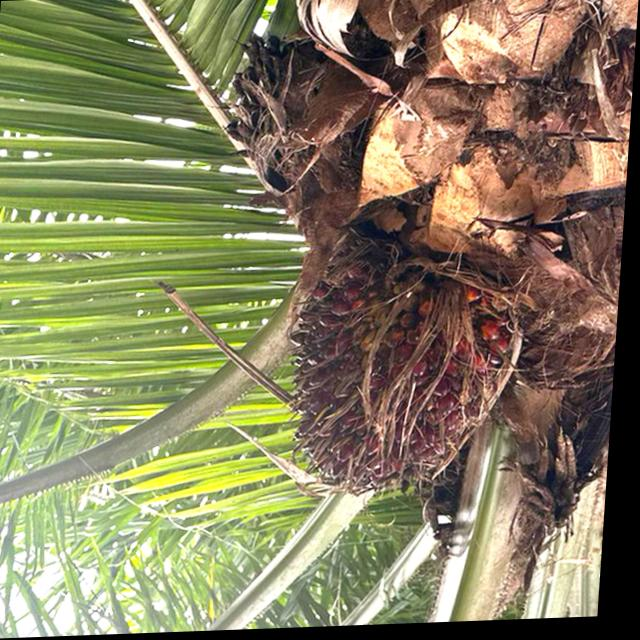ripe: (277, 242, 540, 514)
